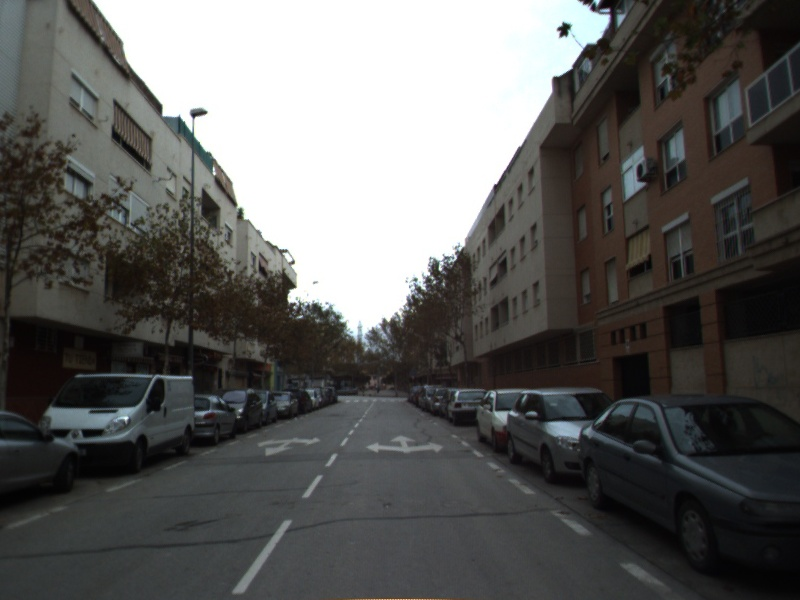STRAIGHT_LEFT_RIGHT: (364, 432, 446, 456)
